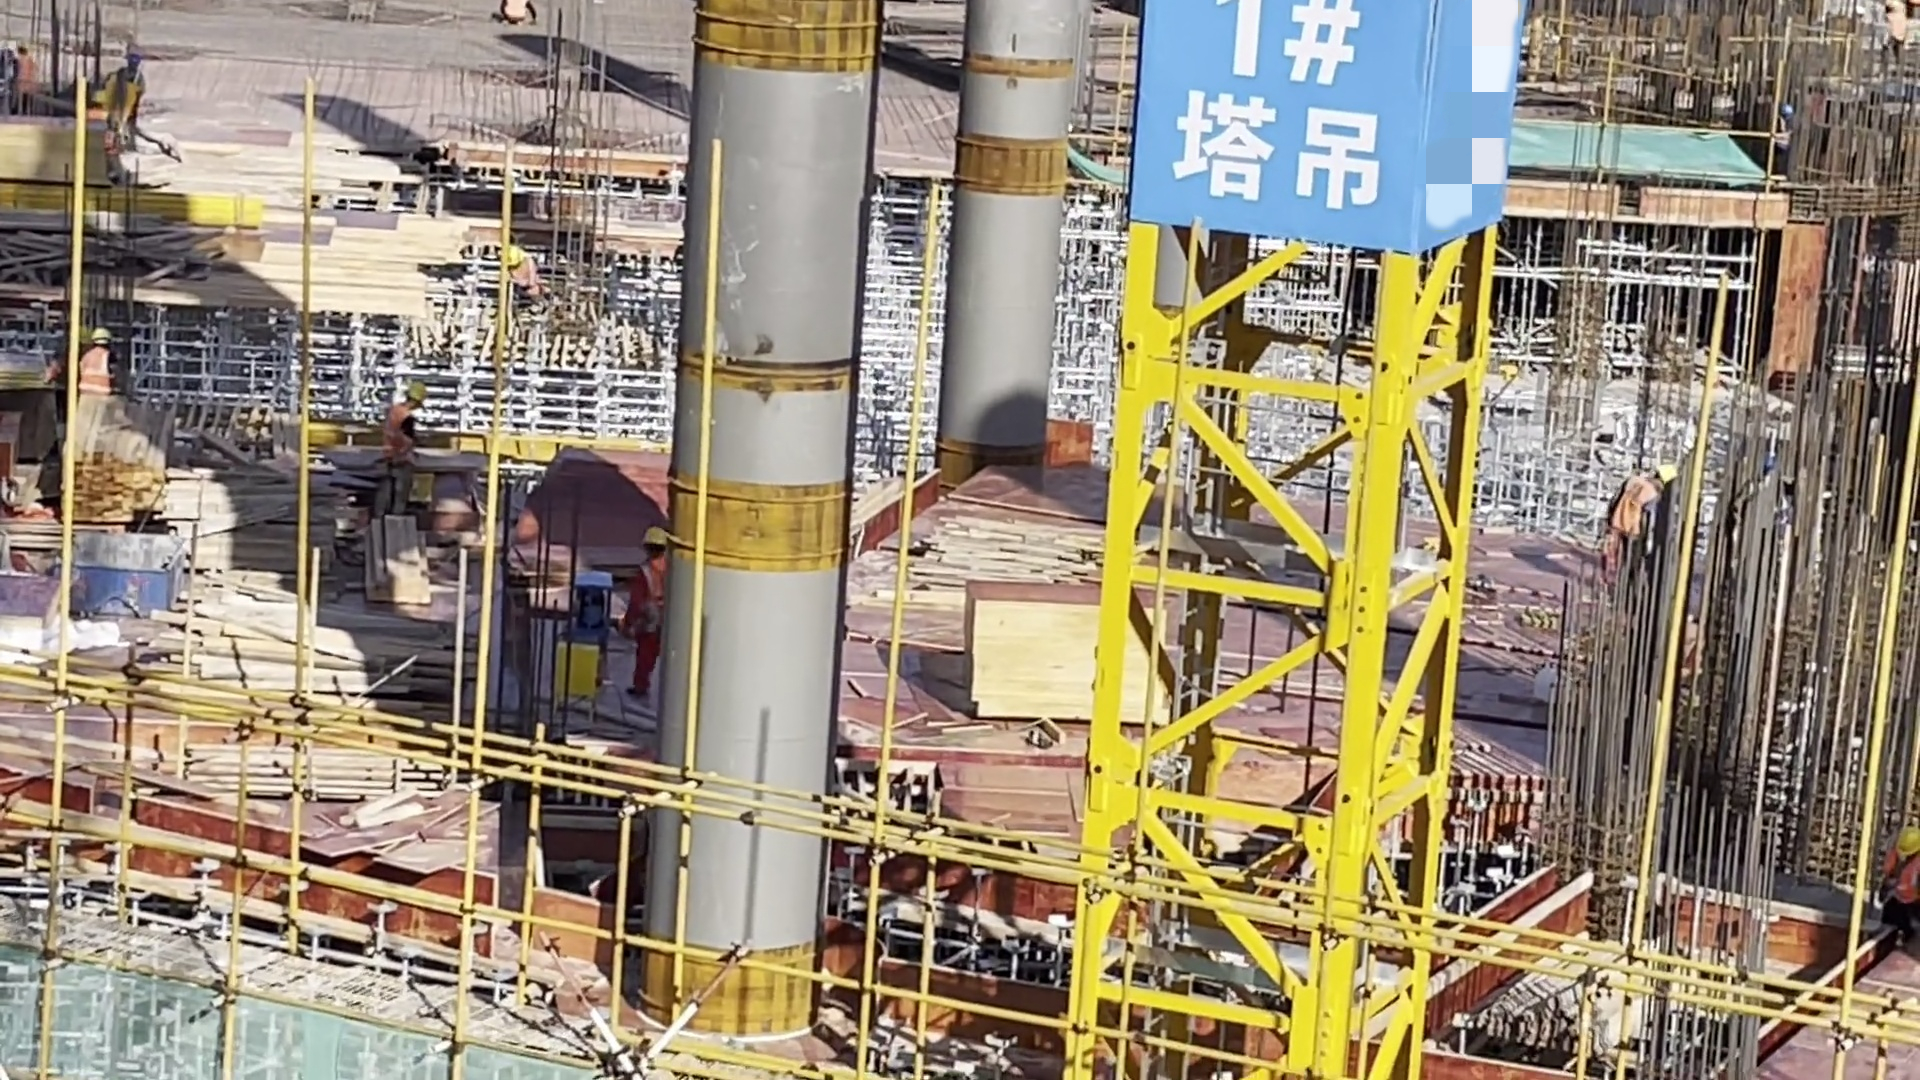board: (950, 572, 1165, 747), (1, 111, 116, 187), (1, 341, 70, 418)
helmet: (1890, 817, 1920, 861), (401, 380, 432, 410), (639, 528, 677, 550), (1657, 460, 1680, 491), (506, 247, 530, 270), (126, 48, 143, 71), (93, 328, 111, 346)
hopper: (70, 531, 188, 616)
person: (626, 518, 680, 715), (376, 373, 441, 524), (1865, 812, 1920, 980), (1604, 466, 1677, 572), (70, 320, 129, 420), (498, 237, 541, 324), (115, 49, 154, 129), (6, 30, 38, 122), (493, 1, 543, 33)
slogan: (1141, 1, 1536, 235)
vest: (634, 560, 683, 648), (1610, 475, 1656, 542), (1879, 854, 1920, 925), (382, 401, 422, 468), (80, 350, 116, 397), (14, 54, 39, 96)
wood: (187, 576, 487, 710), (69, 410, 170, 526), (366, 514, 431, 612)
